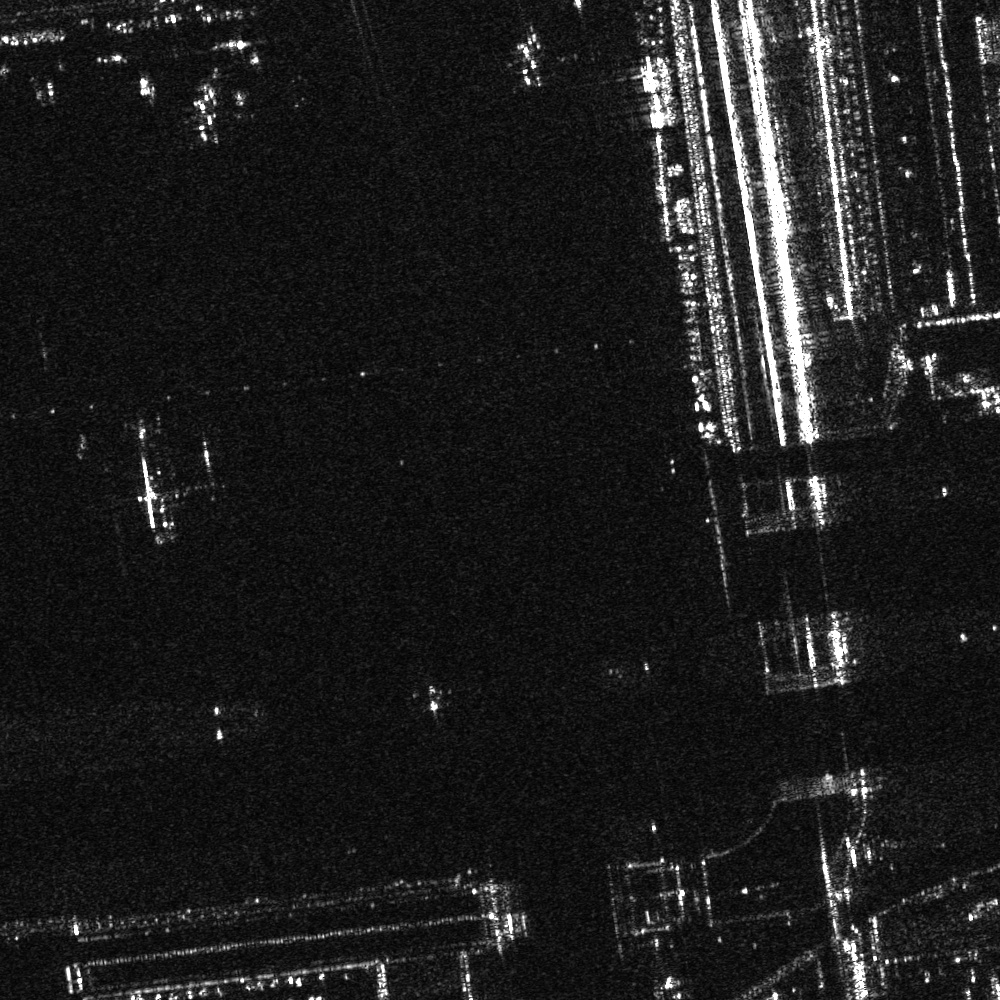A220: (177, 78, 238, 141)
A320/321: (499, 24, 563, 91)
A330: (410, 679, 453, 715)
